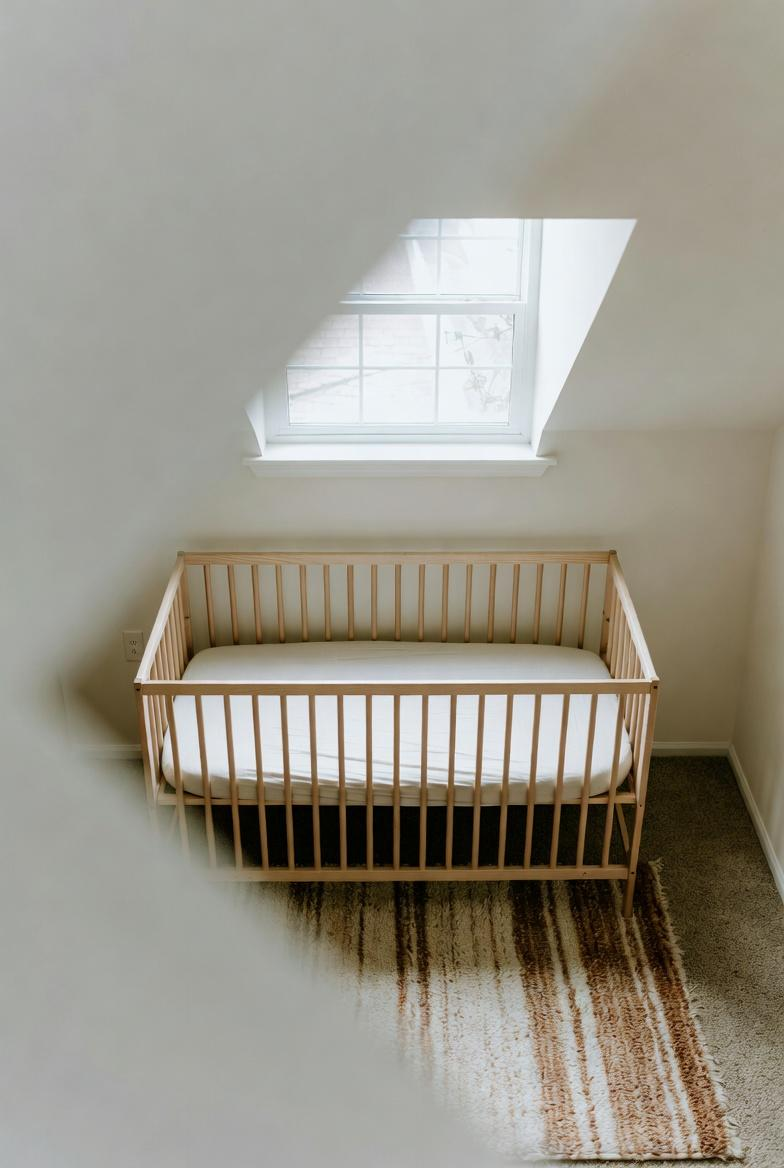crib: (135, 552, 658, 915)
